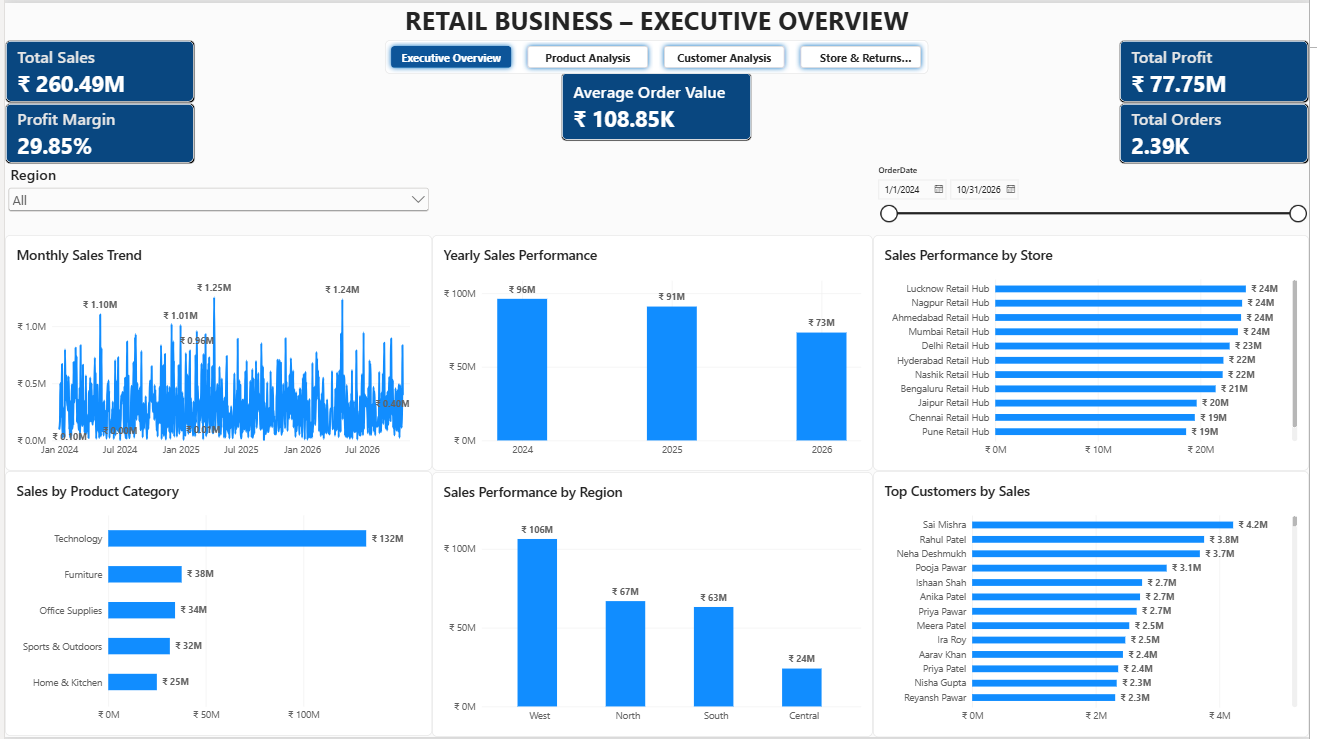

The page's visual inventory and layout, read from the dashboard file:
{"tool":"powerbi","page":{"name":"Executive Overview","canvas":[1920,1080],"ordinal":0},"visuals":[{"type":"cardVisual","fields":{"Data":["Orders.Total Sales"]},"box":[0,54.5,279.8,92.8],"z":0},{"type":"cardVisual","fields":{"Data":["Orders.Total Profit"]},"box":[1640.2,54.5,279.8,92.8],"z":1000},{"type":"cardVisual","fields":{"Data":["Orders.Profit Margin"]},"box":[0,147.2,279.8,89.8],"z":2000},{"type":"cardVisual","fields":{"Data":["Orders.Total Orders"]},"box":[1640.2,147.2,279.8,89.8],"z":3000},{"type":"cardVisual","fields":{"Data":["Orders.Average Order Value"]},"box":[818.7,101.6,281.2,101.6],"z":4000},{"type":"lineChart","title":"Monthly Sales Trend","fields":{"Category":["Orders.OrderDate"],"Y":["Orders.Total Sales"]},"box":[0,341.6,628.7,347.5],"z":5000},{"type":"clusteredBarChart","title":"Sales by Product Category","fields":{"Category":["Products.Category"],"Y":["Orders.Total Sales"]},"box":[0,689.1,628.7,390.2],"z":6000},{"type":"clusteredBarChart","title":"Top Customers by Sales","fields":{"Category":["Customers.CustomerName"],"Y":["Orders.Total Sales"]},"box":[1278,689.1,642,391.7],"z":7000},{"type":"clusteredBarChart","title":"Sales Performance by Store","fields":{"Category":["Stores.StoreName"],"Y":["Orders.Total Sales"]},"box":[1278,341.6,642,347.5],"z":8000},{"type":"slicer","fields":{"Values":["Stores.Region"]},"box":[0,237.1,628.7,104.5],"z":9000},{"type":"slicer","fields":{"Values":["Orders.OrderDate"]},"box":[1278,237.1,642,104.5],"z":10000},{"type":"textbox","box":[0,0,1920,54.5],"z":11000},{"type":"clusteredColumnChart","title":"Yearly Sales Performance","fields":{"Category":["Orders.OrderDate.Variation.Date Hierarchy.Year"],"Y":["Orders.Total Sales"]},"box":[628.7,341.6,649.3,347.5],"z":12000},{"type":"clusteredColumnChart","title":"Sales Performance by Region","fields":{"Category":["Stores.Region"],"Y":["Orders.Total Sales"]},"box":[628.7,690.6,649.3,390.2],"z":13000},{"type":"pageNavigator","box":[559.5,54.5,800,50],"z":13001}]}

Visuals, with their boxes in screenshot pixels (x1, y1, x2, y2), scaled from the page's 1920x1080 canvas onto the 1317x739 screenshot:
cardVisual - Orders.Total Sales: 0 37 192 101
cardVisual - Orders.Total Profit: 1125 37 1316 101
cardVisual - Orders.Profit Margin: 0 101 192 162
cardVisual - Orders.Total Orders: 1125 101 1316 162
cardVisual - Orders.Average Order Value: 562 70 754 139
"Monthly Sales Trend" lineChart: 0 234 431 472
"Sales by Product Category" clusteredBarChart: 0 472 431 738
"Top Customers by Sales" clusteredBarChart: 877 472 1316 738
"Sales Performance by Store" clusteredBarChart: 877 234 1316 472
slicer - Stores.Region: 0 162 431 234
slicer - Orders.OrderDate: 877 162 1316 234
textbox: 0 0 1316 37
"Yearly Sales Performance" clusteredColumnChart: 431 234 877 472
"Sales Performance by Region" clusteredColumnChart: 431 473 877 738
pageNavigator: 384 37 933 72
